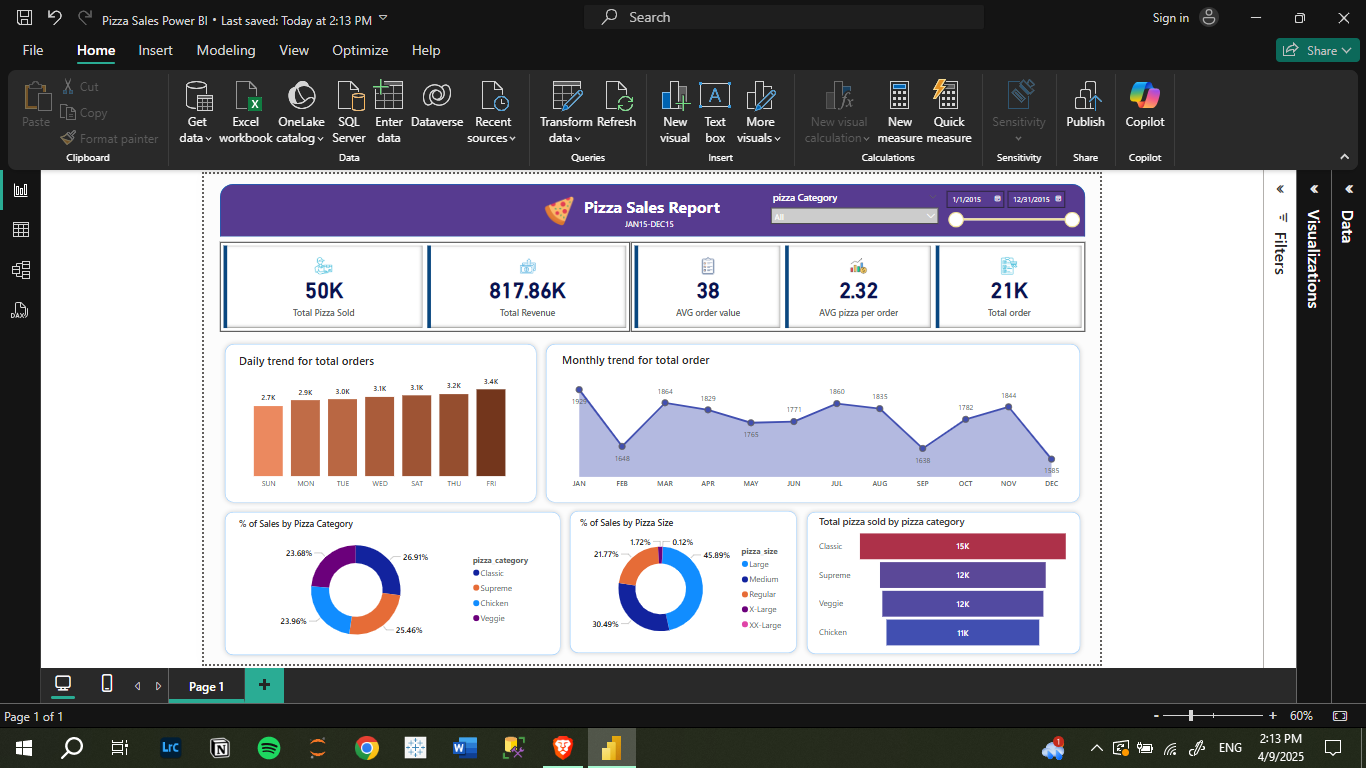

What the dashboard file says about the page in this screenshot:
{"tool":"powerbi","page":{"name":"Page 1","canvas":[1500,820],"ordinal":0},"visuals":[{"type":"cardVisual","fields":{"Data":["pizza_sales_excel_file.AVG order value","pizza_sales_excel_file.AVG pizza per order","pizza_sales_excel_file.Total order"]},"box":[714,114,760,150],"z":0},{"type":"cardVisual","fields":{"Data":["pizza_sales_excel_file.Total Pizza Sold","pizza_sales_excel_file.Total Revenue"]},"box":[26,114,686,150],"z":1000},{"type":"shape","box":[26,16,1448,88],"z":2000},{"type":"textbox","box":[624,32,250,54],"z":3000},{"type":"textbox","box":[700,70,100,34],"z":4000},{"type":"image","box":[550,32,88,60],"z":5000},{"type":"shape","box":[26,276,538,282],"z":6000},{"type":"columnChart","title":"Daily trend for total orders","fields":{"Category":["pizza_sales_excel_file.Order Day"],"Y":["pizza_sales_excel_file.Total order"]},"box":[54,300,482,236],"z":7000},{"type":"shape","box":[564,276,910,282],"z":8000},{"type":"areaChart","title":"Monthly trend for total order ","fields":{"Category":["pizza_sales_excel_file.order Month"],"Y":["pizza_sales_excel_file.Total order"]},"box":[594,298,858,238],"z":9000},{"type":"shape","box":[26,558,578,256],"z":10000},{"type":"shape","box":[604,556,396,254],"z":11000},{"type":"shape","box":[1000,558,474,254],"z":12000},{"type":"donutChart","title":"% of Sales by Pizza Category","fields":{"Category":["pizza_sales_excel_file.pizza_category"],"Y":["pizza_sales_excel_file.Total Revenue"]},"box":[54,574,510,224],"z":13000},{"type":"donutChart","title":"% of Sales by Pizza Size","fields":{"Category":["pizza_sales_excel_file.pizza_size"],"Y":["pizza_sales_excel_file.Total Revenue"]},"box":[624,572,360,224],"z":14000},{"type":"funnel","title":"Total pizza sold by pizza category","fields":{"Category":["pizza_sales_excel_file.pizza_category"],"Y":["pizza_sales_excel_file.Total Pizza Sold"]},"box":[1024,570,428,228],"z":15000},{"type":"slicer","fields":{"Values":["pizza_sales_excel_file.pizza_category"]},"box":[938.6,22.9,300,62.9],"z":16000},{"type":"slicer","fields":{"Values":["pizza_sales_excel_file.order_date"]},"box":[1230,18,244,86],"z":17000}]}

Visuals, with their boxes in screenshot pixels (x1, y1, x2, y2):
cardVisual - pizza_sales_excel_file.AVG order value x pizza_sales_excel_file.AVG pizza per order: (left=633, top=173, right=1291, bottom=303)
cardVisual - pizza_sales_excel_file.Total Pizza Sold x pizza_sales_excel_file.Total Revenue: (left=37, top=173, right=631, bottom=303)
shape: (left=37, top=89, right=1291, bottom=165)
textbox: (left=555, top=102, right=771, bottom=149)
textbox: (left=621, top=135, right=707, bottom=165)
image: (left=491, top=102, right=567, bottom=154)
shape: (left=37, top=314, right=503, bottom=558)
"Daily trend for total orders" columnChart: (left=61, top=335, right=479, bottom=539)
shape: (left=503, top=314, right=1291, bottom=558)
"Monthly trend for total order " areaChart: (left=529, top=333, right=1272, bottom=539)
shape: (left=37, top=558, right=537, bottom=767)
shape: (left=537, top=556, right=880, bottom=767)
shape: (left=880, top=558, right=1291, bottom=767)
"% of Sales by Pizza Category" donutChart: (left=61, top=572, right=503, bottom=766)
"% of Sales by Pizza Size" donutChart: (left=555, top=570, right=867, bottom=764)
"Total pizza sold by pizza category" funnel: (left=901, top=568, right=1272, bottom=766)
slicer - pizza_sales_excel_file.pizza_category: (left=827, top=95, right=1087, bottom=149)
slicer - pizza_sales_excel_file.order_date: (left=1080, top=90, right=1291, bottom=165)
